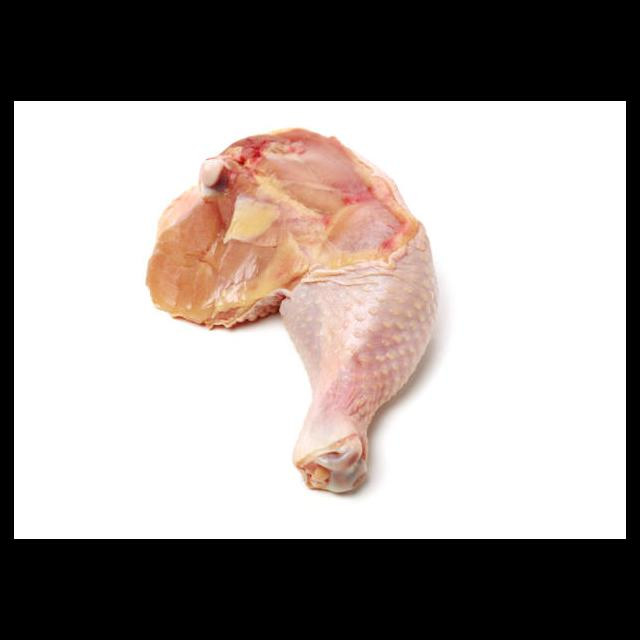chicken: (145, 127, 441, 497)
